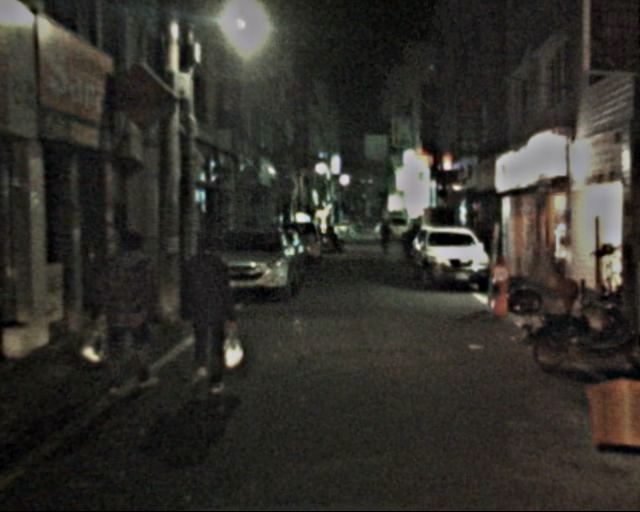person: (170, 237, 244, 397), (92, 226, 162, 395), (375, 219, 393, 256)
